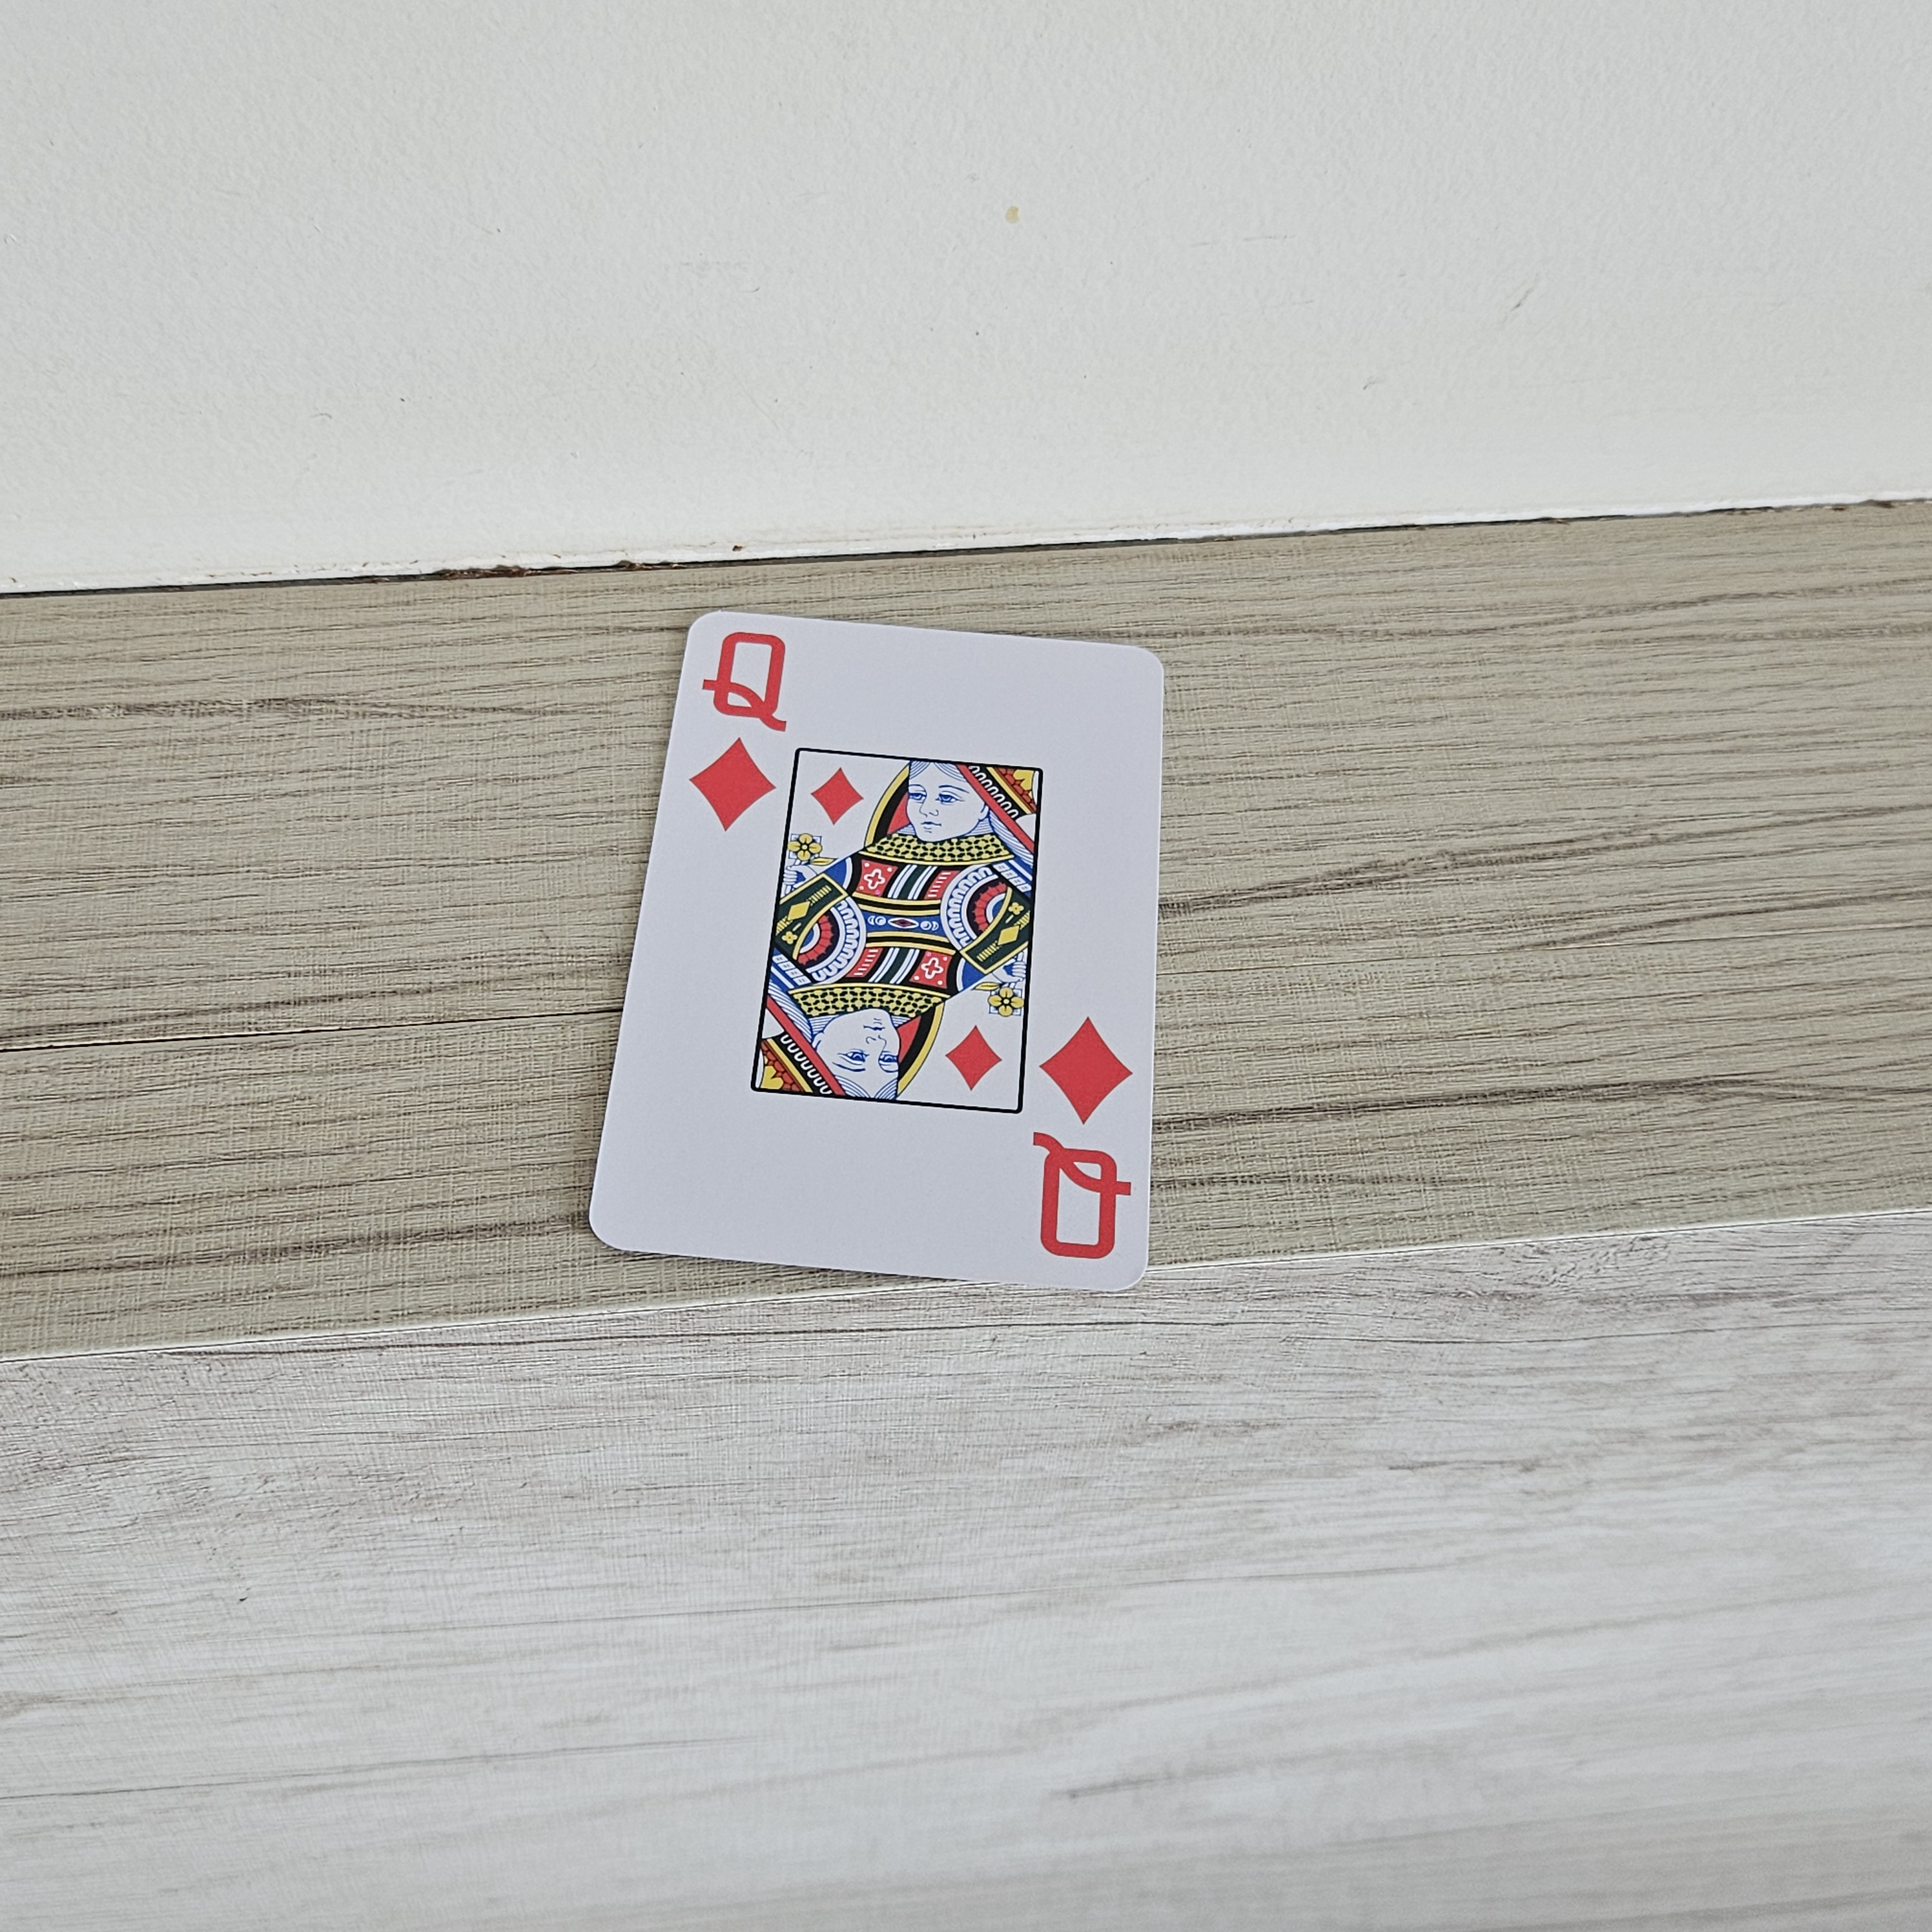QO: (1017, 1003, 1159, 1279), (679, 619, 796, 837)
